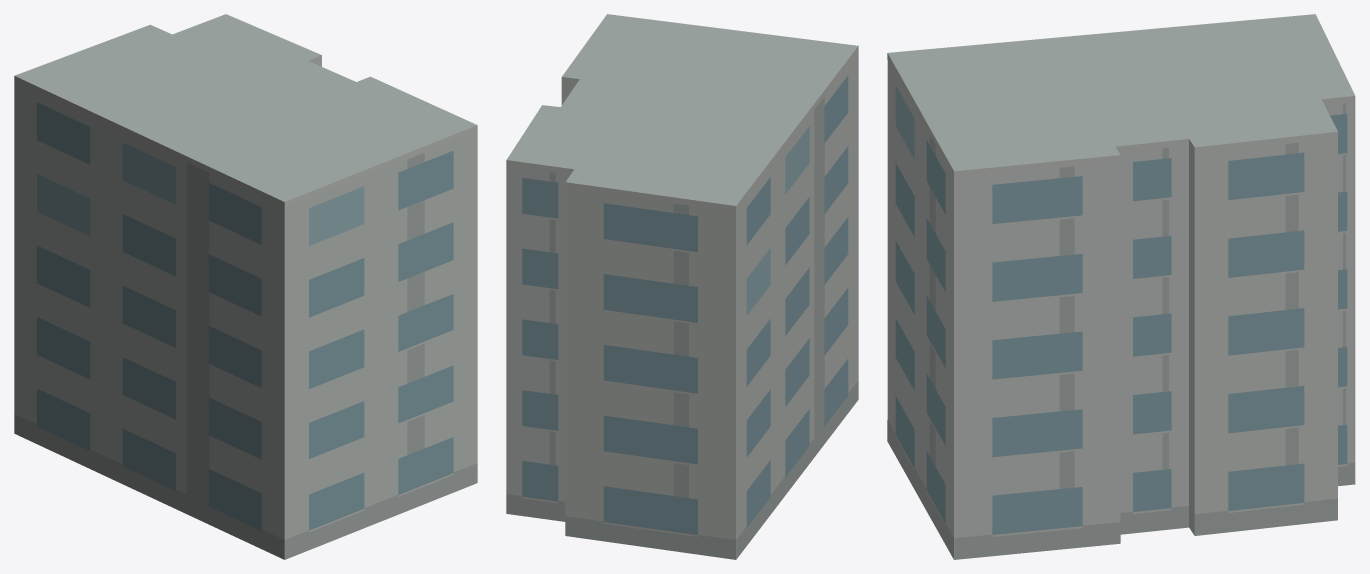
The model's file is survey-upis-32906930.glb.
3 renders of one model, left to right at view 1: azimuth 30°, elevation 25°; view 2: azimuth 150°, elevation 25°; view 3: azimuth 270°, elevation 25°, orthographic. The views are drawn at different scales.
Visible parts, largest first — view 1: survey-upis-32906930.tmp; view 2: survey-upis-32906930.tmp; view 3: survey-upis-32906930.tmp.
Part boxes in pixels (box(x1,y1,x2,y2)): survey-upis-32906930.tmp: box(14, 14, 477, 559); survey-upis-32906930.tmp: box(506, 14, 858, 559); survey-upis-32906930.tmp: box(887, 14, 1355, 559).
Bounding box in the file's own units: 12.25 × 14.1 × 15.4.
